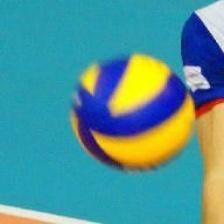Sports-Ball: (70, 55, 197, 173)
